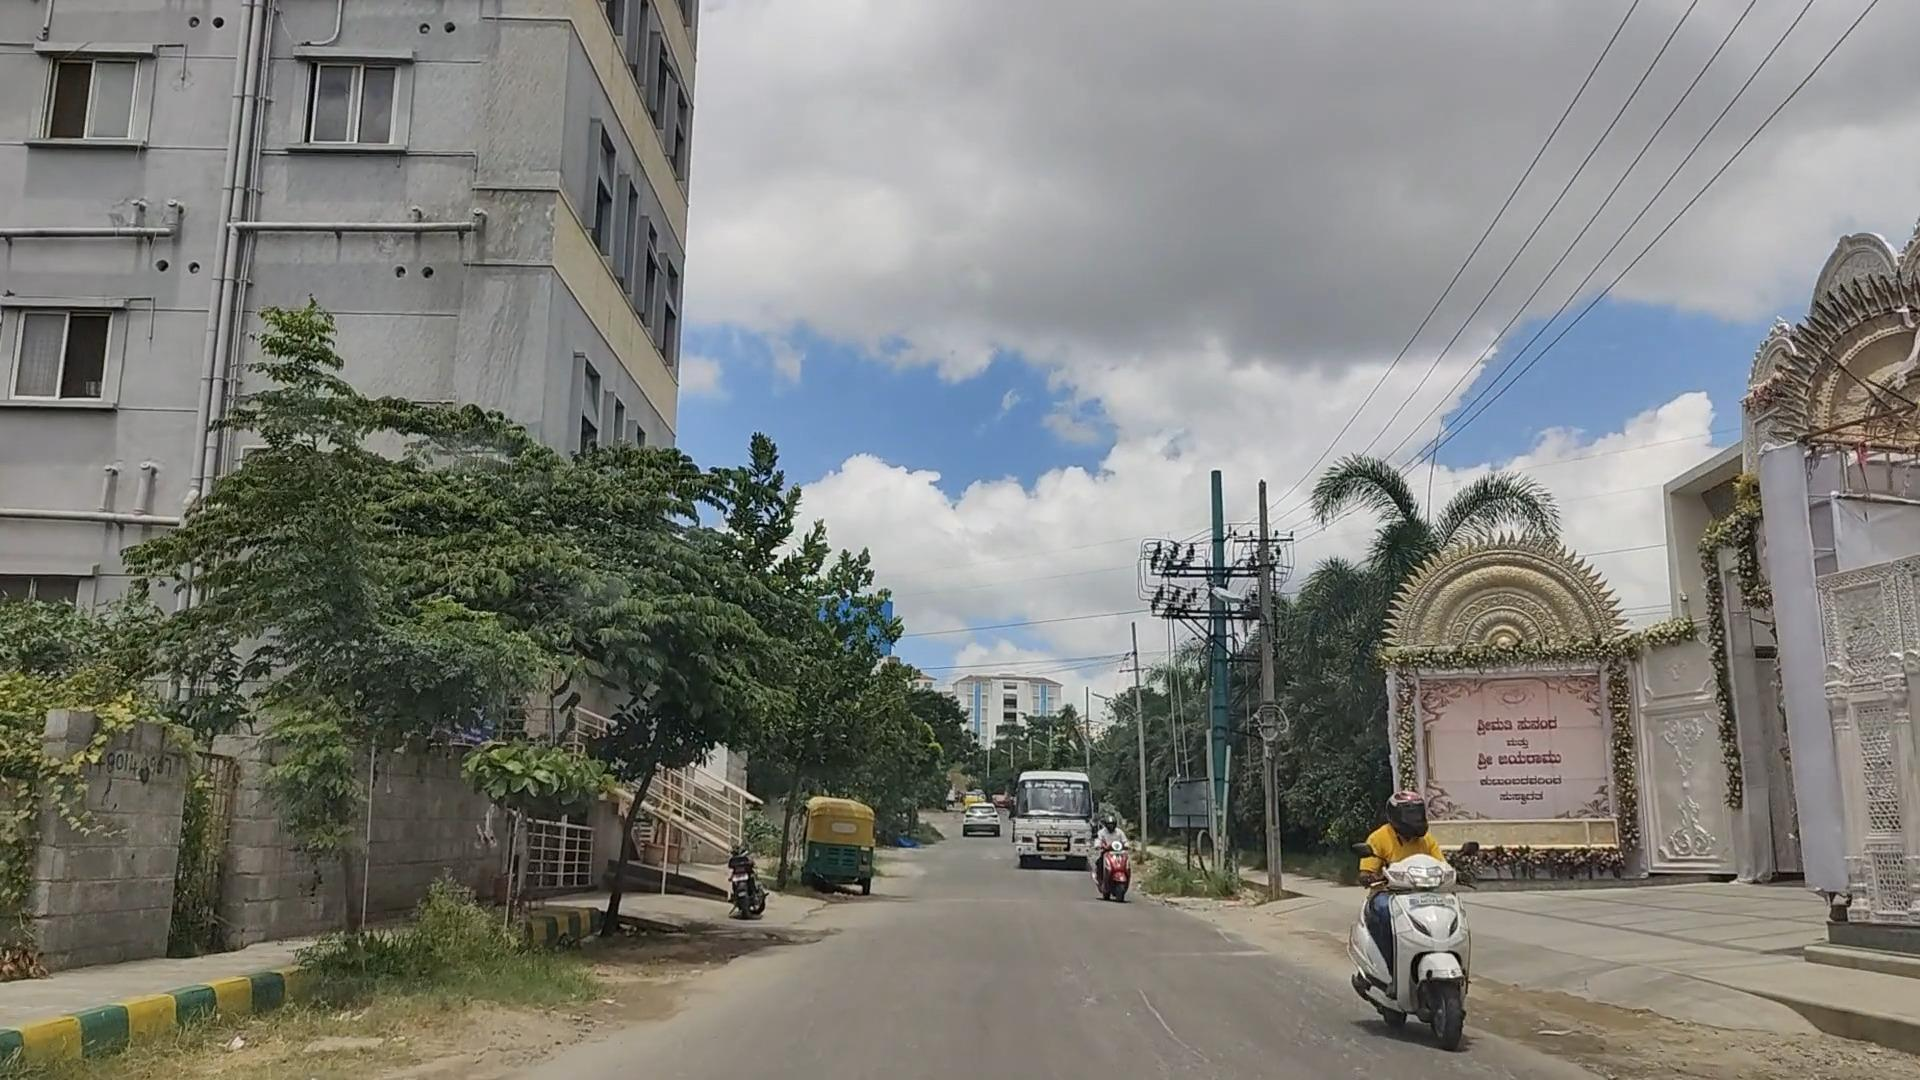RoadDamages: (1474, 985, 1812, 1080)
